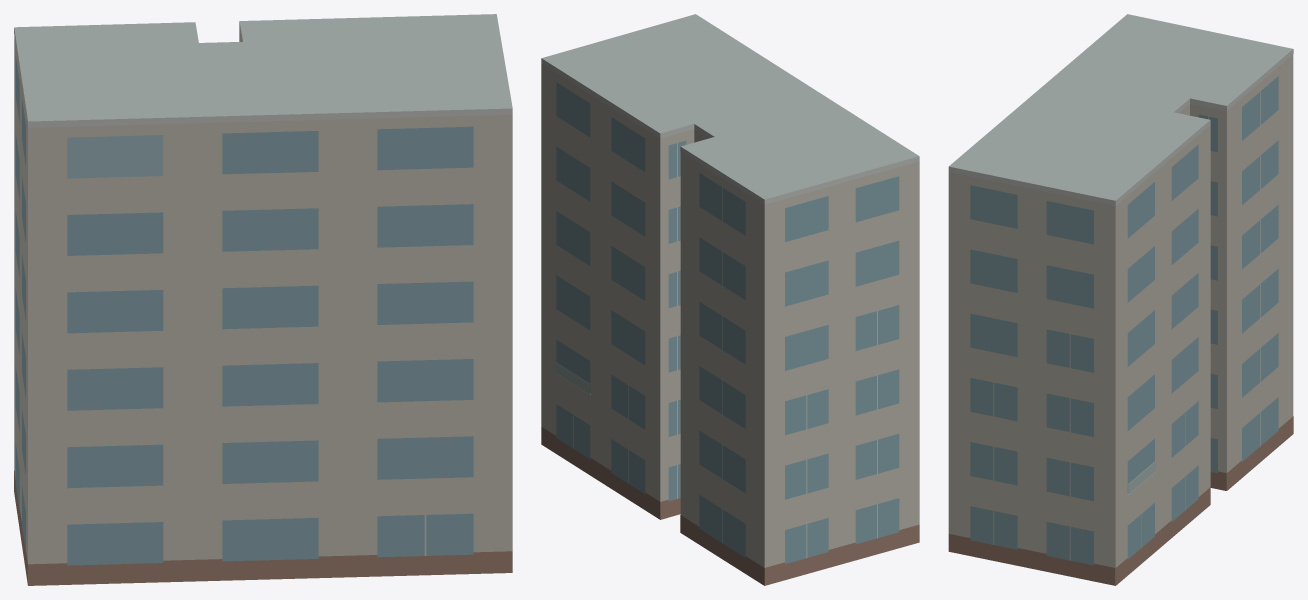
Rendered from survey-upis-32994342.glb.
The picture shows the model from 3 angles, left to right: view 1: azimuth 30°, elevation 25°; view 2: azimuth 150°, elevation 25°; view 3: azimuth 270°, elevation 25°; orthographic projection. The views are drawn at different scales.
Visible parts, largest first — view 1: survey-upis-32994342.tmp; view 2: survey-upis-32994342.tmp; view 3: survey-upis-32994342.tmp.
Boxes of the visible parts, left/top/right/bottom form: survey-upis-32994342.tmp: left=14, top=14, right=512, bottom=585; survey-upis-32994342.tmp: left=541, top=14, right=919, bottom=585; survey-upis-32994342.tmp: left=948, top=14, right=1293, bottom=585.
Bounding box in the file's own units: 19.05 × 18.3 × 14.86.
